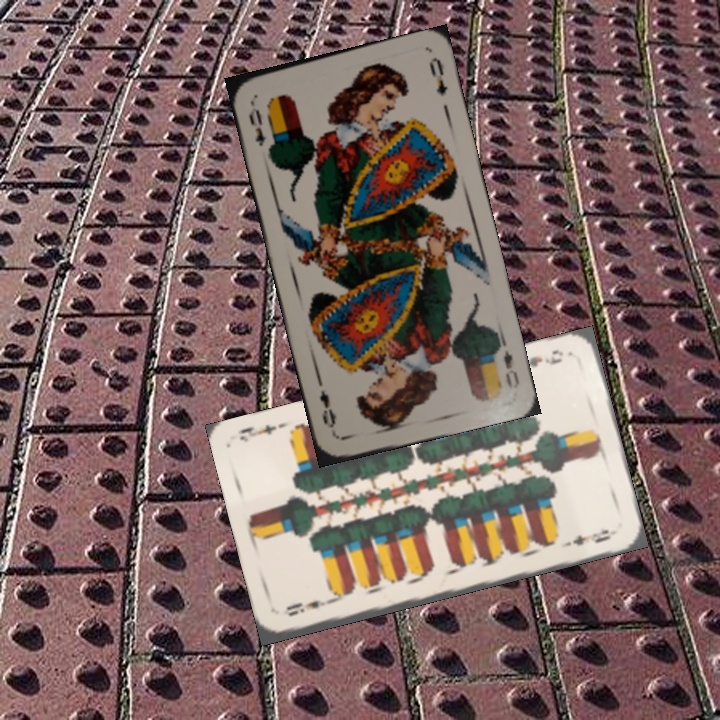E9: (279, 594, 337, 619), (523, 345, 566, 370)
EO: (490, 334, 522, 392), (245, 97, 269, 149)
